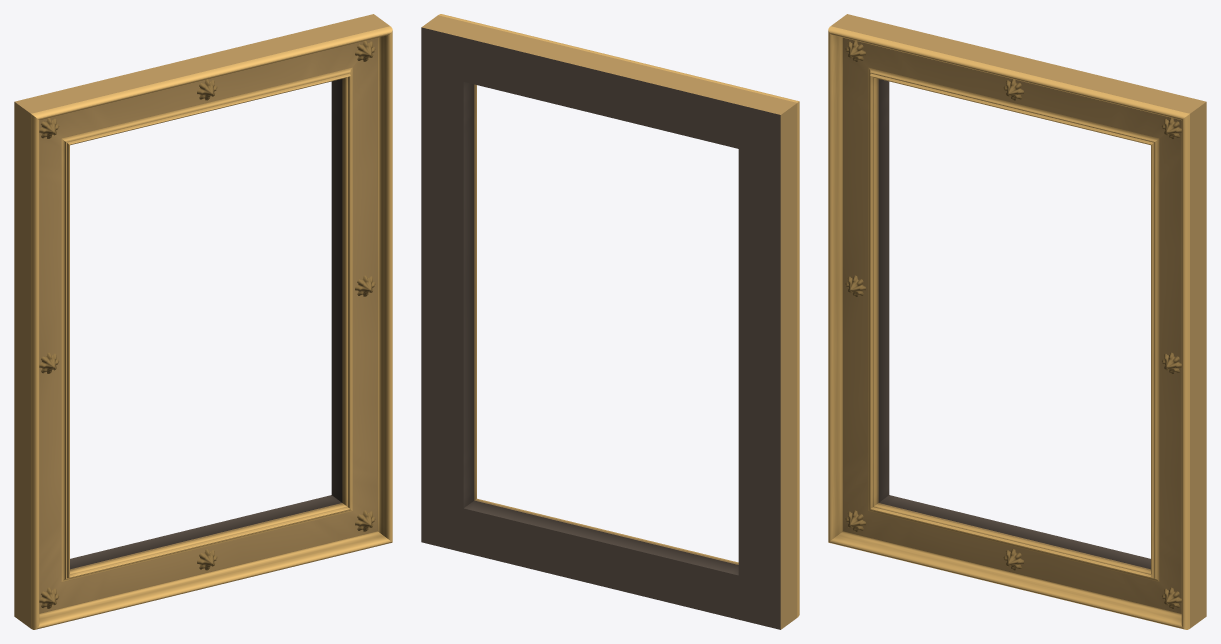
The model's file is 04-spasitel-mira.glb.
3 views of the same model, side by side, from view 1: azimuth 30°, elevation 25°; view 2: azimuth 150°, elevation 25°; view 3: azimuth 330°, elevation 25° (orthographic).
Parts seen in each view (by area): view 1: Frame; view 2: Frame; view 3: Frame.
Boxes of the visible parts, left/top/right/bottom form: Frame: left=14, top=14, right=392, bottom=629; Frame: left=421, top=14, right=799, bottom=629; Frame: left=828, top=14, right=1206, bottom=629.
Size of the model in its own units: 0.8675 by 1.19 by 0.0857.
